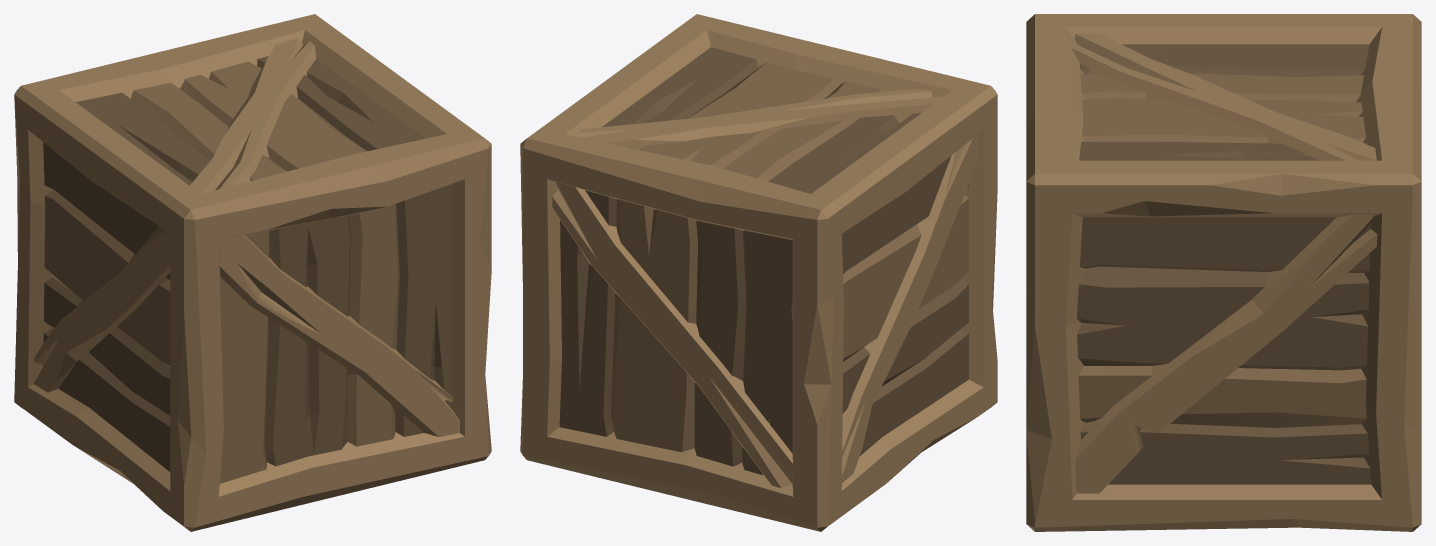
The model's file is SM_Prop_Crate_02.fbx.
The picture shows the model from 3 angles, left to right: view 1: azimuth 30°, elevation 25°; view 2: azimuth 150°, elevation 25°; view 3: azimuth 270°, elevation 25°; orthographic projection. The views are drawn at different scales.
Parts seen in each view (by area): view 1: SM_Prop_Crate_02; view 2: SM_Prop_Crate_02; view 3: SM_Prop_Crate_02.
Boxes of the visible parts, bbox=[...] form: SM_Prop_Crate_02: bbox=[14, 14, 491, 531]; SM_Prop_Crate_02: bbox=[520, 14, 997, 531]; SM_Prop_Crate_02: bbox=[1026, 14, 1421, 531].
Bounding box in the file's own units: 107 × 107 × 107.
1 material, 1 textured.
